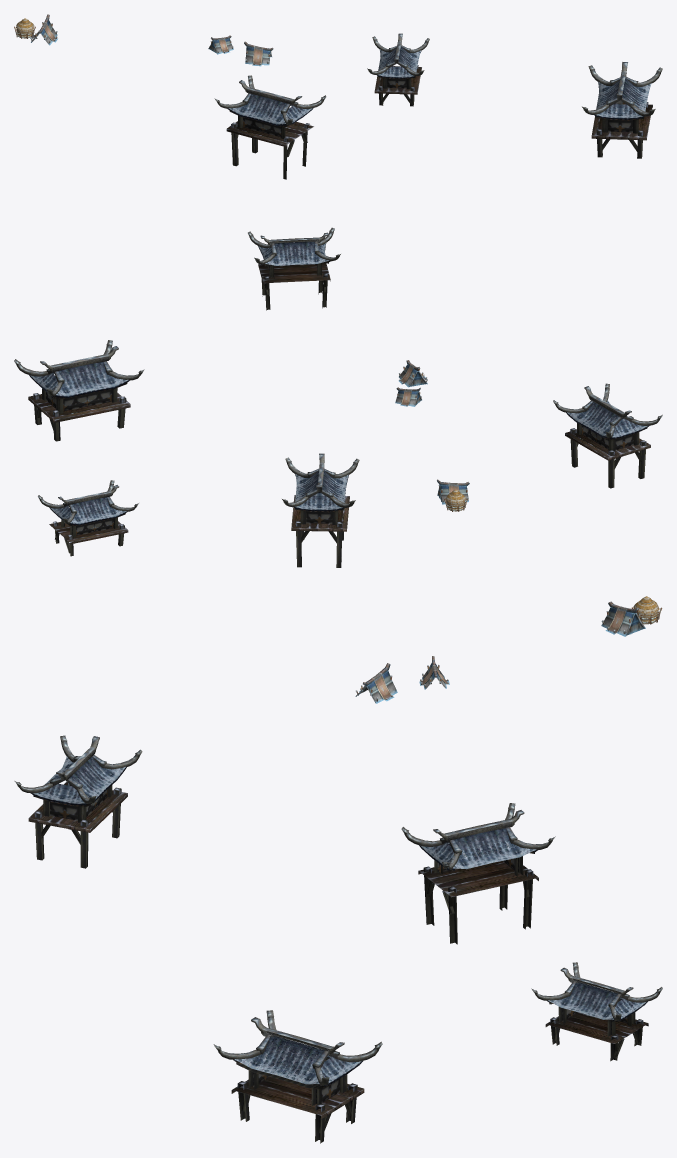
The model's file is snow_02_house.FBX.
The picture shows the model from 3 angles, top to bottom: view 1: azimuth 30°, elevation 25°; view 2: azimuth 150°, elevation 25°; view 3: azimuth 270°, elevation 25°; orthographic projection. The views are drawn at different scales.
Visible parts, largest first — view 1: house; view 2: house; view 3: house.
Boxes of the visible parts, left/top/right/bottom form: house: left=14, top=14, right=662, bottom=310; house: left=14, top=340, right=662, bottom=567; house: left=14, top=596, right=662, bottom=1143.
Bounding box in the file's own units: 248 × 72.9 × 189.
